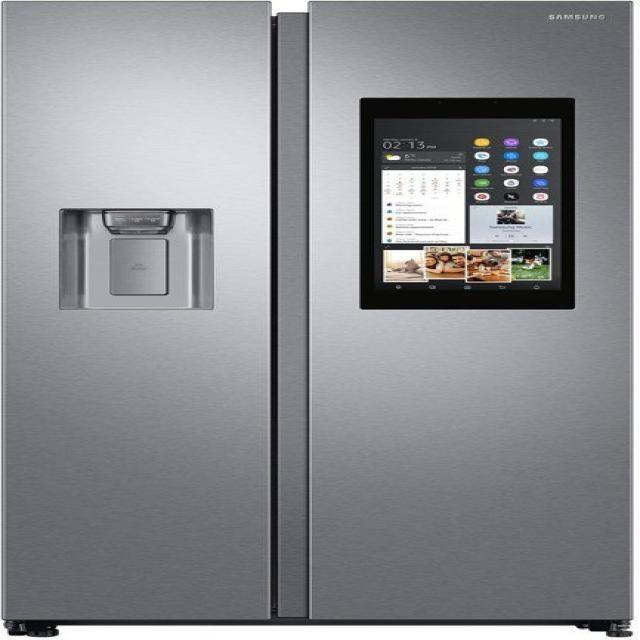obstacle: (2, 1, 634, 637)
